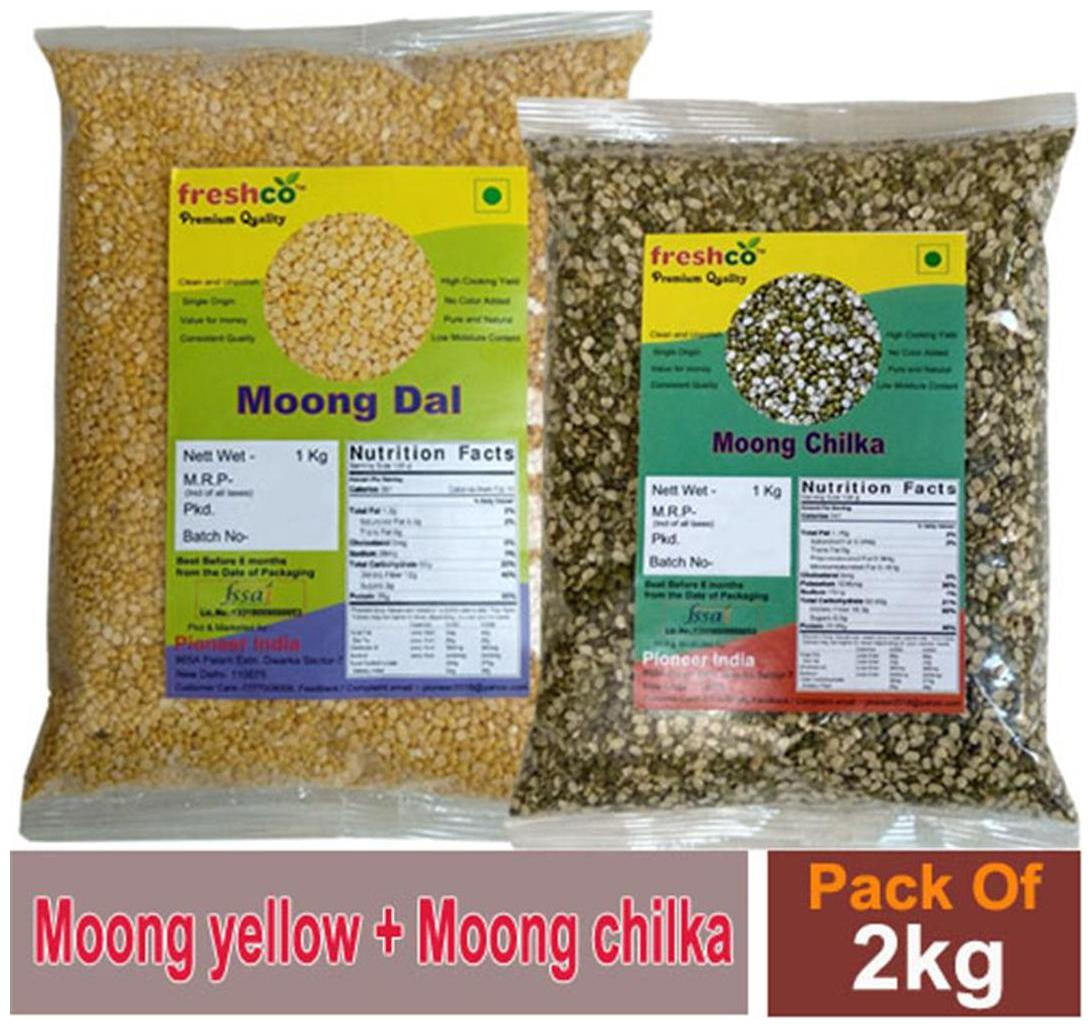fssai: (217, 579, 274, 606)
